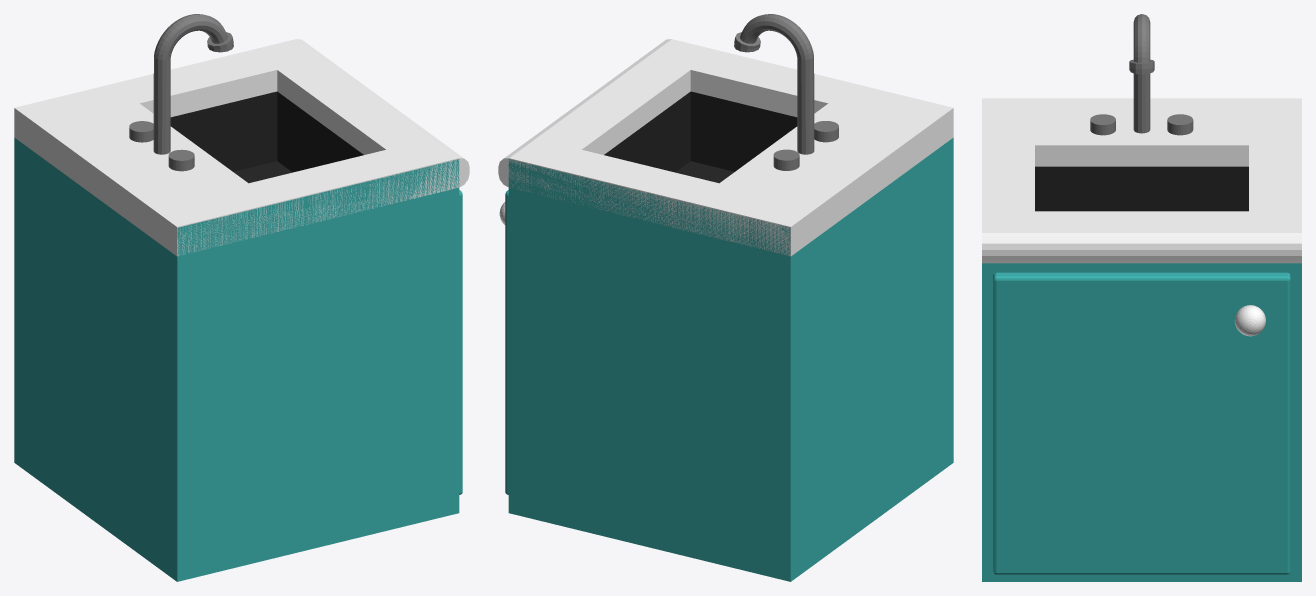
The model's file is EncimeraFregadero.fbx.
3 views of the same model, side by side, from view 1: azimuth 30°, elevation 25°; view 2: azimuth 150°, elevation 25°; view 3: azimuth 270°, elevation 25° (orthographic).
Parts seen in each view (by area): view 1: Cube, Cube.001, Torus, Cube.002; view 2: Cube, Cube.001, Torus, Cube.002; view 3: Cube.002, Cube.001, Cube, Torus, Sphere, Cylinder.001, Cylinder.
Boxes of the visible parts, x1,y1,x2,y2 form: Cube: (14,137,459,581); Cube.001: (14,39,469,256); Torus: (153,14,233,154); Cube.002: (459,190,462,494); Cube: (508,137,953,581); Cube.001: (498,39,953,256); Torus: (734,14,814,154); Cube.002: (505,190,508,494); Cube.002: (993,272,1290,574); Cube.001: (982,98,1301,263); Cube: (982,263,1301,581); Torus: (1129,14,1154,133); Sphere: (1234,305,1265,336); Cylinder.001: (1167,114,1193,135); Cylinder: (1090,114,1115,135).
Bounding box in the file's own units: 50 × 55.92 × 81.94.
1 material, 1 textured.
